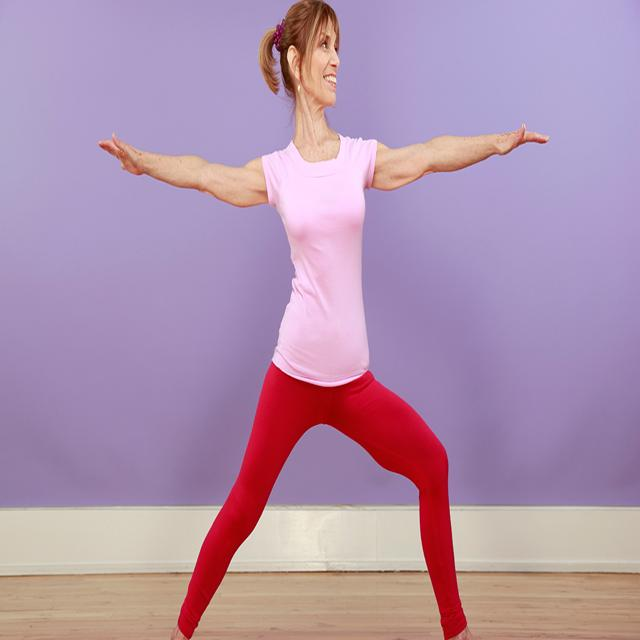Warrior_II: (93, 1, 554, 640)
